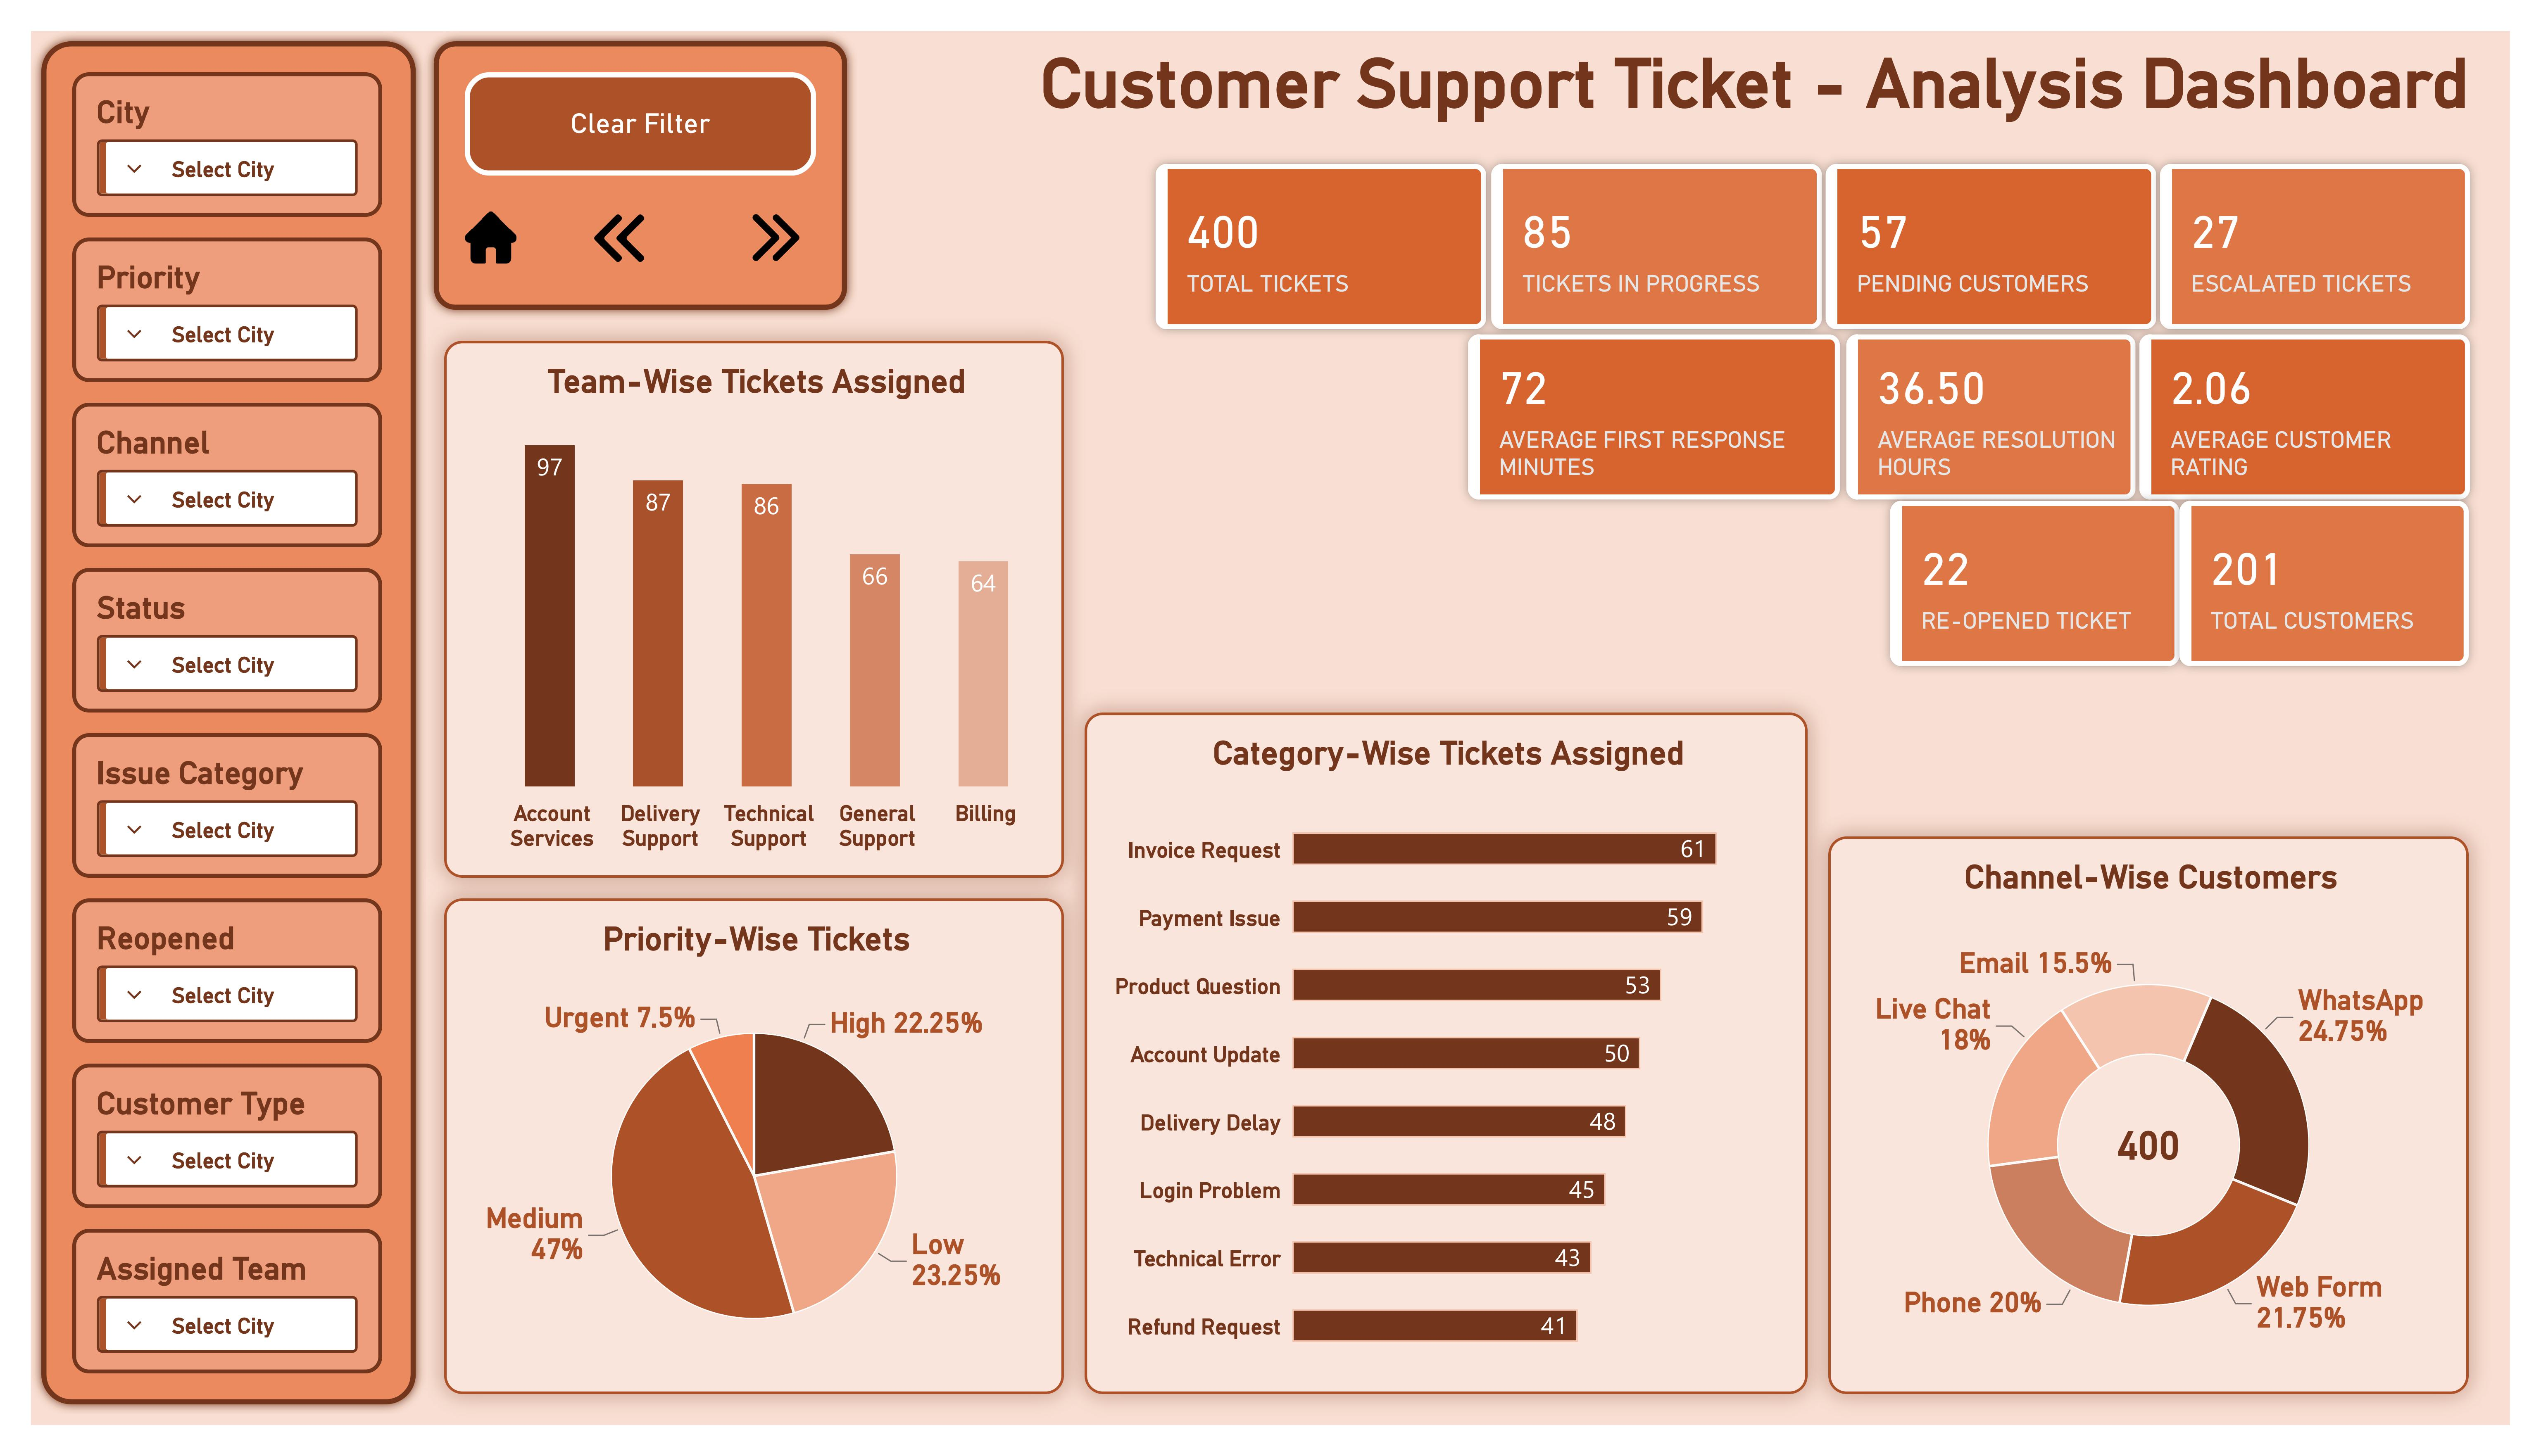

Layout of this report page (visuals, bound fields, positions):
{"tool":"powerbi","page":{"name":"Home Page","canvas":[1920,1080],"ordinal":0},"visuals":[{"type":"shape","box":[304,0,336,224],"z":0,"group":"g2"},{"type":"shape","box":[0,0,306,1072],"z":500,"group":"g2"},{"type":"image","box":[336,128,40,64],"z":1000,"group":"g1"},{"type":"clusteredColumnChart","title":"Team-Wise Tickets Assigned","fields":{"Category":["Customer_Support_Tickets.Assigned_Team"],"Y":["_measure.TOTAL TICKETS"]},"box":[320,240,480,416],"z":1000},{"type":"clusteredBarChart","title":"Category-Wise Tickets Assigned","fields":{"Category":["Customer_Support_Tickets.Issue_Category"],"Y":["_measure.TOTAL TICKETS"]},"box":[816,528,560,528],"z":2000},{"type":"actionButton","box":[336,32,272,80],"z":3000,"group":"g2"},{"type":"image","box":[545.9,128,62.1,64],"z":3000,"group":"g3"},{"type":"cardVisual","fields":{"Data":["_measure.TOTAL TICKETS"]},"box":[854.6,86.8,288,160],"z":4000},{"type":"cardVisual","fields":{"Data":["_measure.TICKETS IN PROGRESS"]},"box":[1114.6,86.8,288,160],"z":5000},{"type":"cardVisual","fields":{"Data":["_measure.PENDING CUSTOMERS"]},"box":[1373.6,86.8,288,160],"z":6000},{"type":"cardVisual","fields":{"Data":["_measure.ESCALATED TICKETS"]},"box":[1632.6,86.8,272,160],"z":7000},{"type":"listSlicer","fields":{"Values":["Customer_Support_Tickets.Priority"]},"box":[32,160,240,112],"z":7000,"group":"g2"},{"type":"cardVisual","fields":{"Data":["_measure.AVERAGE 1st RESPONSE MINUTES"]},"box":[1096.6,218.8,320,160],"z":8000},{"type":"cardVisual","fields":{"Data":["_measure.AVERAGE RESOLUTION HOURS"]},"box":[1389.6,218.8,256,160],"z":9000},{"type":"cardVisual","fields":{"Data":["_measure.AVERAGE CUSTOMER RATING"]},"box":[1616.6,218.8,288,160],"z":10000},{"type":"cardVisual","fields":{"Data":["_measure.RE-OPENED TICKET"]},"box":[1423.5,348.5,256,160],"z":11000},{"type":"cardVisual","fields":{"Data":["_measure.TOTAL CUSTOMERS"]},"box":[1647.5,348.5,256,160],"z":12000},{"type":"textbox","box":[640,0,1248,96],"z":13000},{"type":"group","id":"g1","title":"Group 2","box":[336,128,272,64],"z":14000,"group":"g2"},{"type":"pieChart","title":"Priority-Wise Tickets","fields":{"Category":["Customer_Support_Tickets.Priority"],"Y":["_measure.TOTAL TICKETS"]},"box":[320,672,480,384],"z":15000},{"type":"donutChart","title":"Channel-Wise Customers","fields":{"Category":["Customer_Support_Tickets.Channel"],"Y":["_measure.TOTAL TICKETS"]},"box":[1392,624,496,432],"z":16000},{"type":"group","id":"g2","title":"Group 3","box":[0,0,640,1072],"z":17000},{"type":"listSlicer","fields":{"Values":["Customer_Support_Tickets.City"]},"box":[32,32,240,112],"z":22000,"group":"g2"},{"type":"group","id":"g3","title":"Group 1","box":[545.9,128,62.1,64],"z":23001,"group":"g1"},{"type":"listSlicer","fields":{"Values":["Customer_Support_Tickets.Issue_Category"]},"box":[32,544,240,112],"z":23500,"group":"g2"},{"type":"listSlicer","fields":{"Values":["Customer_Support_Tickets.Channel"]},"box":[32,288,240,112],"z":24000,"group":"g2"},{"type":"listSlicer","fields":{"Values":["Customer_Support_Tickets.Reopened"]},"box":[32,672,240,112],"z":25000,"group":"g2"},{"type":"listSlicer","fields":{"Values":["Customer_Support_Tickets.Status"]},"box":[32,416,240,112],"z":25500,"group":"g2"},{"type":"listSlicer","fields":{"Values":["Customer_Support_Tickets.Customer_Type"]},"box":[32,800,240,112],"z":28001,"group":"g2"},{"type":"listSlicer","fields":{"Values":["Customer_Support_Tickets.Assigned_Team"]},"box":[32,928,240,112],"z":28501,"group":"g2"}]}

Visuals, with their boxes on the page's 1920x1080 design canvas (x1, y1, x2, y2). These are canvas units, not pixel positions in the 2541x1456 screenshot, which may show the page scaled, cropped or inside an application window:
shape: BBox(304, 0, 640, 224)
shape: BBox(0, 0, 306, 1072)
image: BBox(336, 128, 376, 192)
"Team-Wise Tickets Assigned" clusteredColumnChart: BBox(320, 240, 800, 656)
"Category-Wise Tickets Assigned" clusteredBarChart: BBox(816, 528, 1376, 1056)
actionButton: BBox(336, 32, 608, 112)
image: BBox(546, 128, 608, 192)
cardVisual - _measure.TOTAL TICKETS: BBox(855, 87, 1143, 247)
cardVisual - _measure.TICKETS IN PROGRESS: BBox(1115, 87, 1403, 247)
cardVisual - _measure.PENDING CUSTOMERS: BBox(1374, 87, 1662, 247)
cardVisual - _measure.ESCALATED TICKETS: BBox(1633, 87, 1905, 247)
listSlicer - Customer_Support_Tickets.Priority: BBox(32, 160, 272, 272)
cardVisual - _measure.AVERAGE 1st RESPONSE MINUTES: BBox(1097, 219, 1417, 379)
cardVisual - _measure.AVERAGE RESOLUTION HOURS: BBox(1390, 219, 1646, 379)
cardVisual - _measure.AVERAGE CUSTOMER RATING: BBox(1617, 219, 1905, 379)
cardVisual - _measure.RE-OPENED TICKET: BBox(1424, 348, 1680, 508)
cardVisual - _measure.TOTAL CUSTOMERS: BBox(1648, 348, 1904, 508)
textbox: BBox(640, 0, 1888, 96)
"Group 2" group: BBox(336, 128, 608, 192)
"Priority-Wise Tickets" pieChart: BBox(320, 672, 800, 1056)
"Channel-Wise Customers" donutChart: BBox(1392, 624, 1888, 1056)
"Group 3" group: BBox(0, 0, 640, 1072)
listSlicer - Customer_Support_Tickets.City: BBox(32, 32, 272, 144)
"Group 1" group: BBox(546, 128, 608, 192)
listSlicer - Customer_Support_Tickets.Issue_Category: BBox(32, 544, 272, 656)
listSlicer - Customer_Support_Tickets.Channel: BBox(32, 288, 272, 400)
listSlicer - Customer_Support_Tickets.Reopened: BBox(32, 672, 272, 784)
listSlicer - Customer_Support_Tickets.Status: BBox(32, 416, 272, 528)
listSlicer - Customer_Support_Tickets.Customer_Type: BBox(32, 800, 272, 912)
listSlicer - Customer_Support_Tickets.Assigned_Team: BBox(32, 928, 272, 1040)
